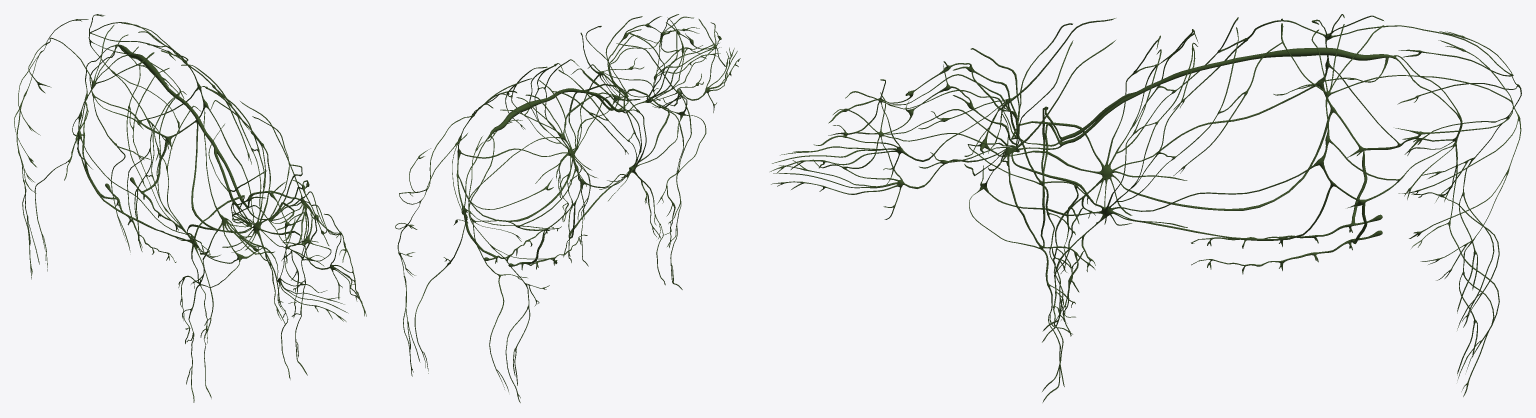
Rendered from Lymphatic System.fbx.
The picture shows the model from 3 angles, left to right: view 1: azimuth 30°, elevation 25°; view 2: azimuth 150°, elevation 25°; view 3: azimuth 270°, elevation 25°; orthographic projection. The views are drawn at different scales.
Parts seen in each view (by area): view 1: Lymphatic System; view 2: Lymphatic System; view 3: Lymphatic System.
Part boxes in pixels (x1,y1,x2,y2): Lymphatic System: (14, 14, 366, 402); Lymphatic System: (395, 14, 740, 402); Lymphatic System: (770, 14, 1521, 402).
Size of the model in its own units: 29.46 by 50.25 by 98.55.
